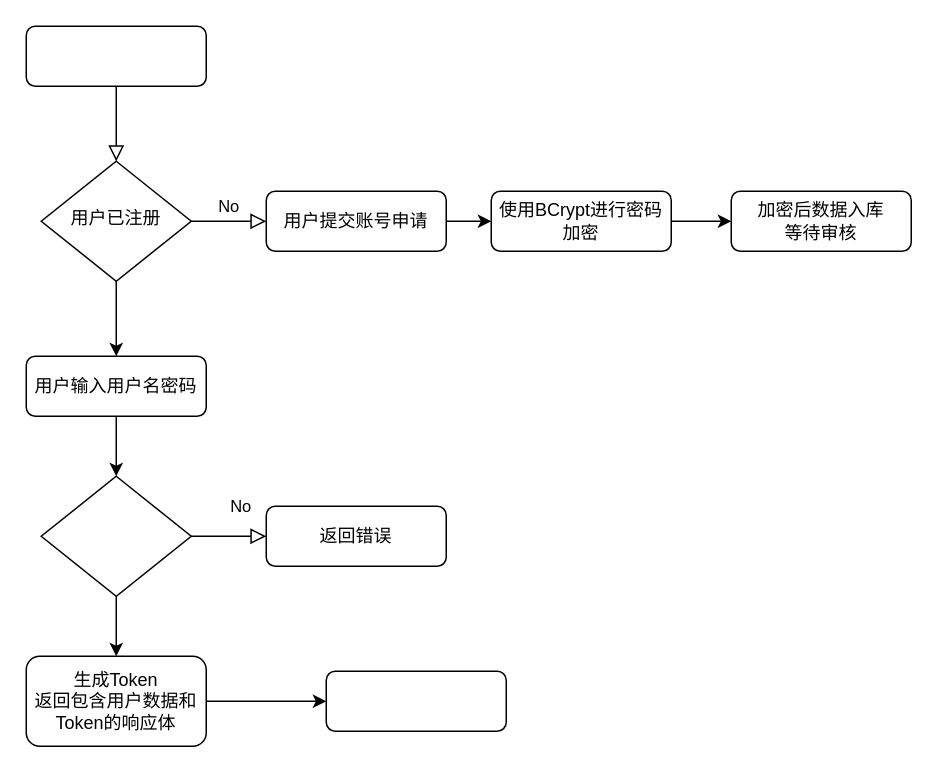
This 938x773 diagram has some shape labels left out. Each missing label, with the centre of its shape:
使用BCrypt进行密码比对: point 115,535
前端存储Token及用户数据: point 415,700
用户进入登陆界面: point 115,55
